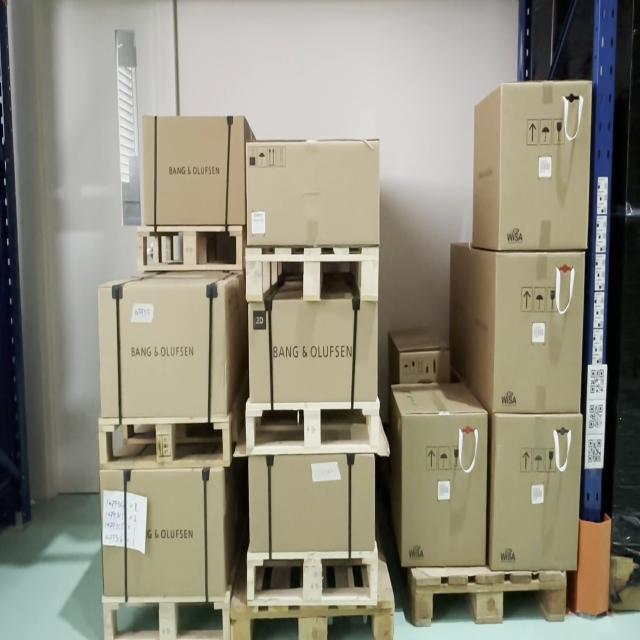box: (102, 287, 224, 418), (100, 471, 226, 595), (498, 83, 590, 250), (247, 140, 377, 245), (496, 254, 579, 411), (492, 416, 576, 570), (403, 415, 485, 568), (250, 304, 377, 399), (250, 458, 373, 552), (144, 116, 245, 222)
